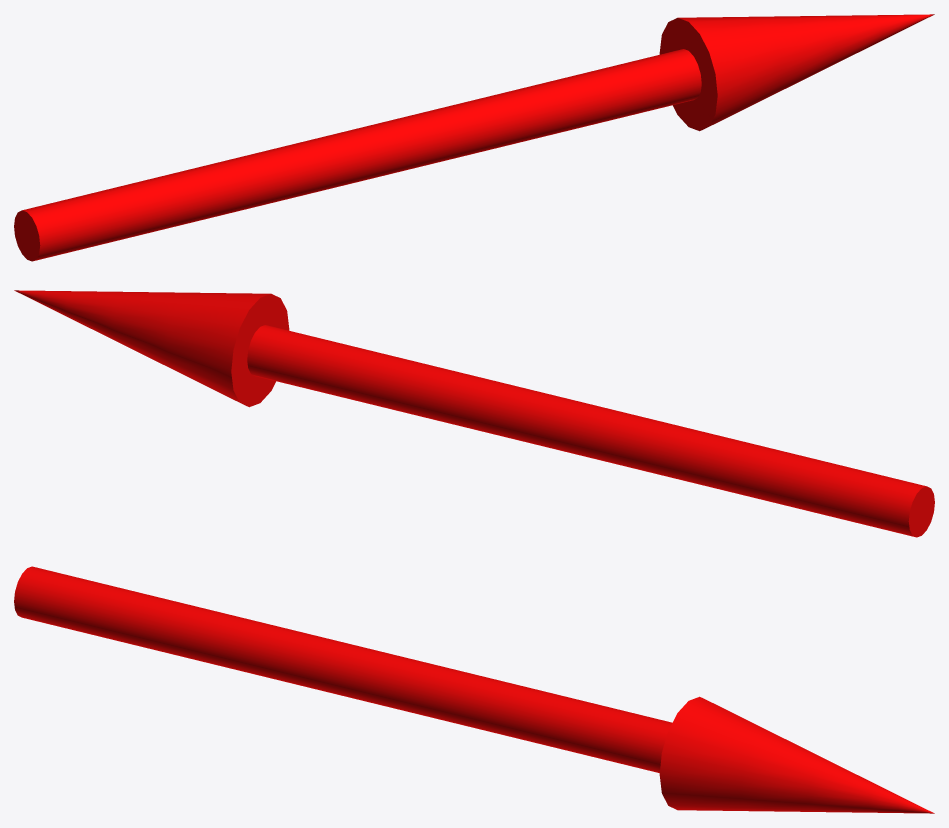
File: arrowX.glb
3 renders of one model, top to bottom at view 1: azimuth 30°, elevation 25°; view 2: azimuth 150°, elevation 25°; view 3: azimuth 330°, elevation 25°, orthographic.
Visible parts, largest first — view 1: hires.001; view 2: hires.001; view 3: hires.001.
Boxes of the visible parts, <box> form: hires.001: <box>14,14,934,261</box>; hires.001: <box>14,290,934,537</box>; hires.001: <box>14,566,934,813</box>.
Bounding box in the file's own units: 1 × 0.1108 × 0.1108.
